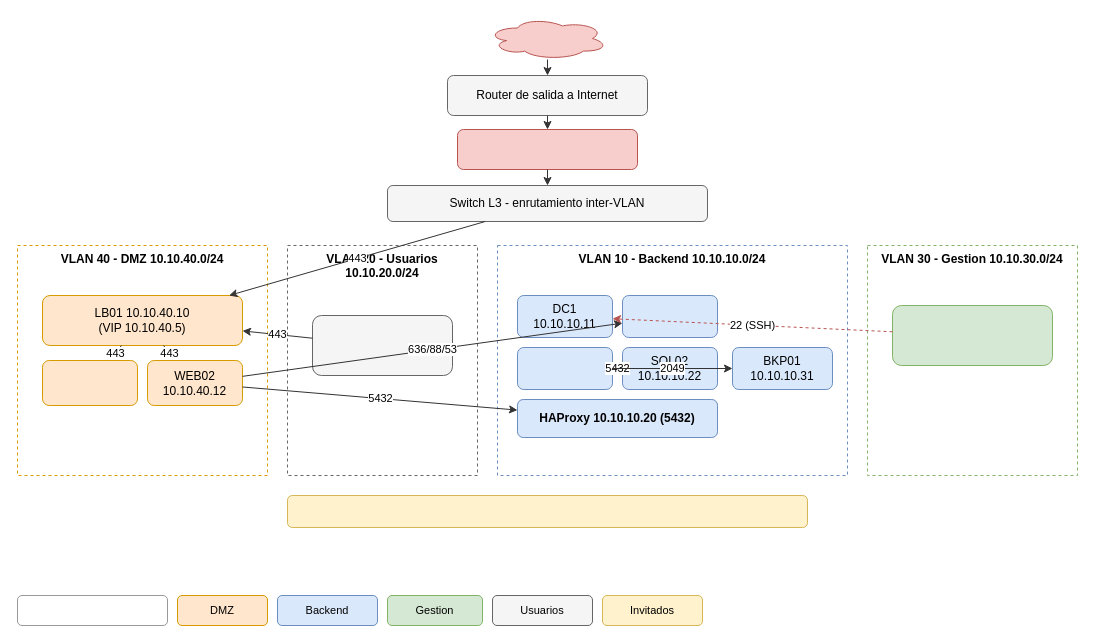
Some shapes in this 1095 by 643 pixel diagram are drawn without their labels. The shapes that lost their labels are listed below. From the top down, each one's centre as x and y in pixels, then its label:
the point at 547,38: Internet
the point at 547,149: FW01 - Firewall + VPN
the point at 670,316: DC2 10.10.10.12
the point at 972,335: Admin / DevOps + VPN tecnicos
the point at 382,345: PCs usuarios (DHCP)
the point at 90,383: WEB01 10.10.40.11
the point at 564,368: SQL01 10.10.10.21
the point at 547,511: VLAN 99 - WiFi invitados 10.10.99.0/24 (aislada, solo salida a Internet)
the point at 92,610: Leyenda de zonas:
